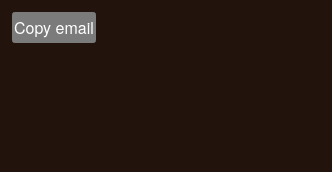
Test: CopyEmail › copies the public email address and announces success
Click the button "Copy email". click: (54, 28)
box: [12,12,96,43]
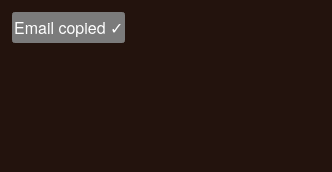
Result: the button "Email copied ✓" is shown at [12,12,126,43]
